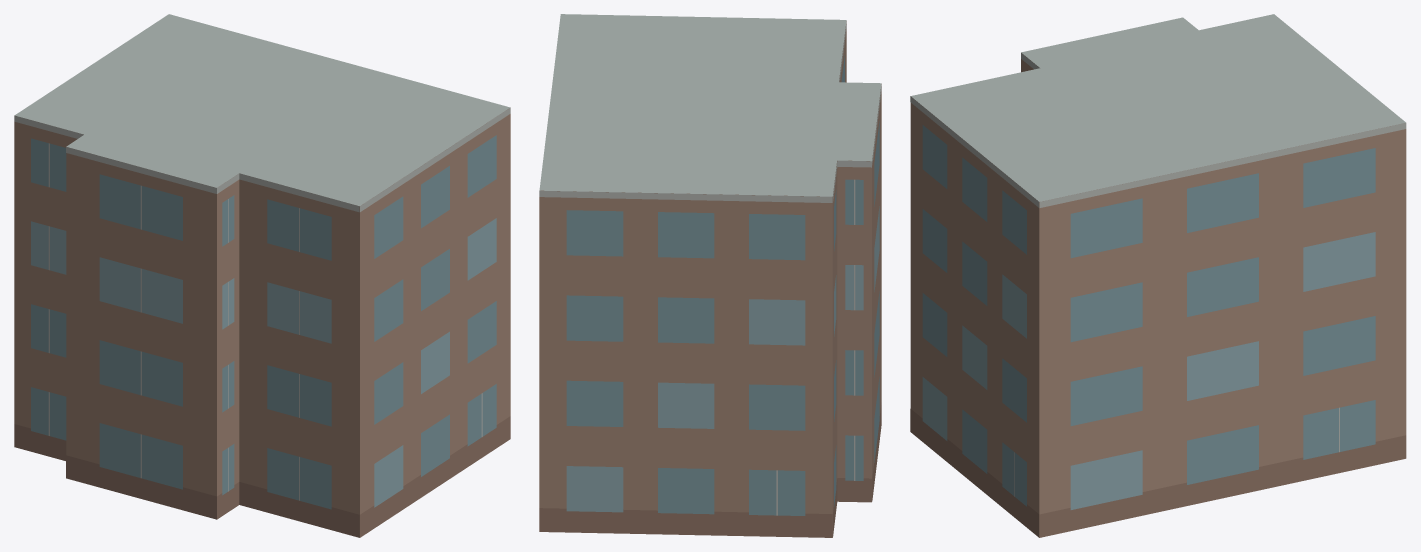
The model's file is survey-upis-32861423.glb.
3 views of the same model, side by side, from view 1: azimuth 30°, elevation 25°; view 2: azimuth 150°, elevation 25°; view 3: azimuth 270°, elevation 25° (orthographic). The views are drawn at different scales.
Visible parts, largest first — view 1: survey-upis-32861423.tmp; view 2: survey-upis-32861423.tmp; view 3: survey-upis-32861423.tmp.
Boxes of the visible parts, left/top/right/bottom form: survey-upis-32861423.tmp: left=14, top=14, right=510, bottom=537; survey-upis-32861423.tmp: left=539, top=14, right=881, bottom=537; survey-upis-32861423.tmp: left=910, top=14, right=1406, bottom=537.
Size of the model in its own units: 15.73 by 13.1 by 17.53.
